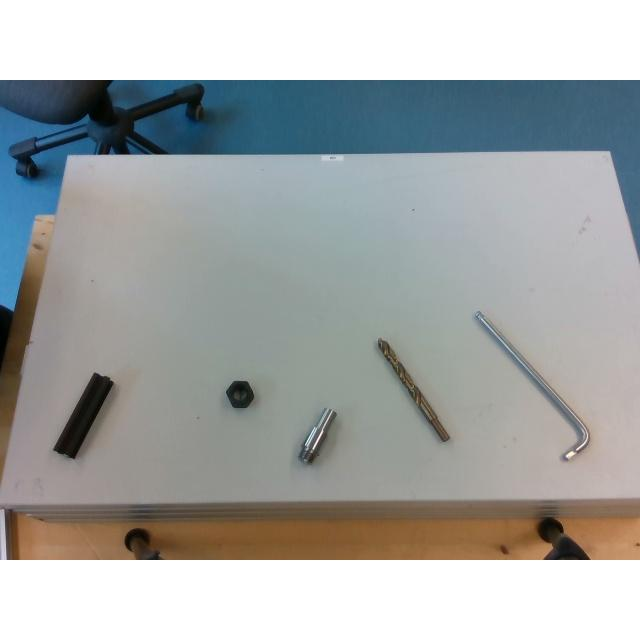AllenKey: (474, 308, 590, 459)
Axis2: (300, 408, 336, 464)
Drill: (377, 337, 449, 441)
F20_20_B: (54, 374, 112, 458)
M20: (226, 380, 254, 408)
